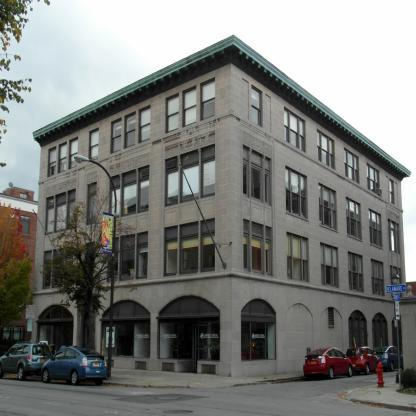car: (33, 350, 107, 388), (0, 341, 53, 380), (302, 344, 353, 380), (348, 347, 382, 376), (376, 341, 404, 372)
